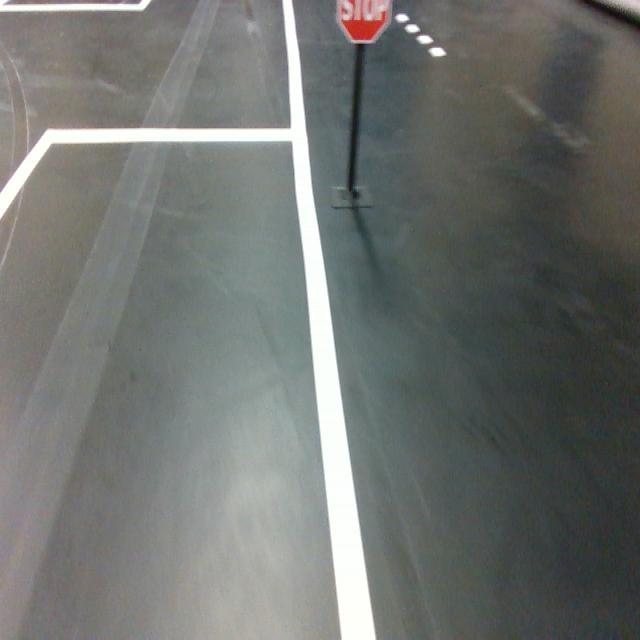stop-sign: (334, 0, 394, 45)
